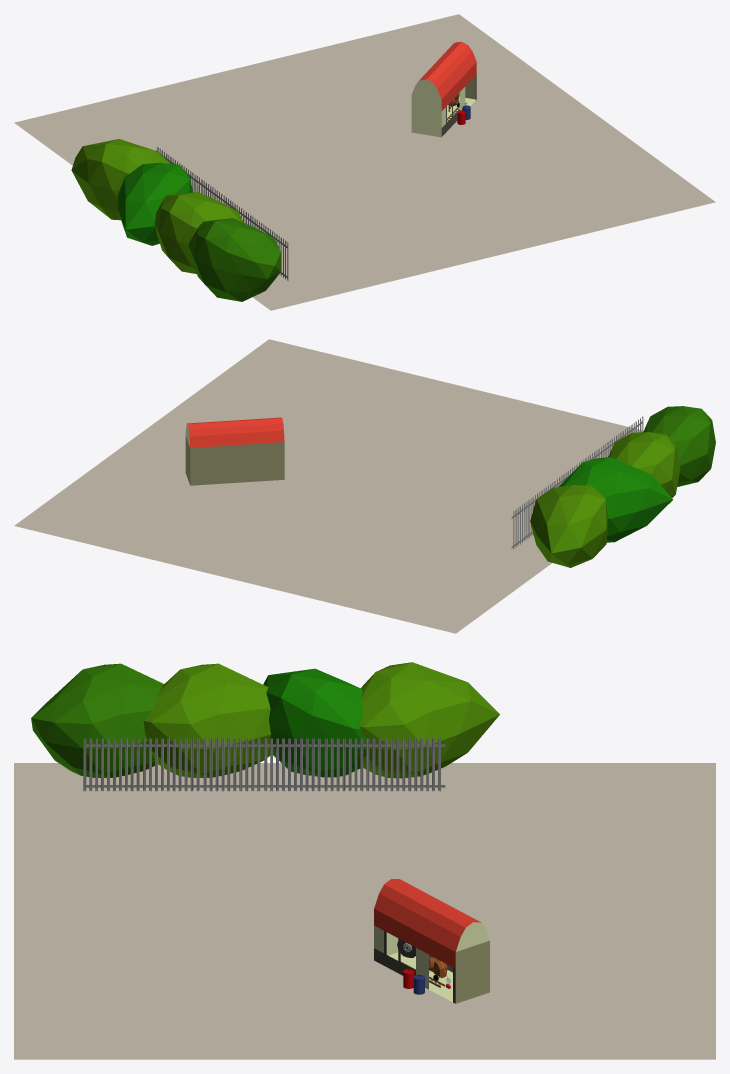
File: M_029.Powerwashing station.fbx
3 renders of one model, top to bottom at view 1: azimuth 30°, elevation 25°; view 2: azimuth 150°, elevation 25°; view 3: azimuth 270°, elevation 25°, orthographic. The views are drawn at different scales.
Visible parts, largest first — view 1: Plane, Icosphere, Barn, Icosphere.003, Icosphere.002, Icosphere.001, Steel Fence; view 2: Plane, Barn, Icosphere.003, Icosphere.002, Icosphere, Icosphere.001, Steel Fence; view 3: Plane, Steel Fence, Icosphere.003, Icosphere.001, Icosphere, Barn, Icosphere.002.
Part boxes in pixels (left/top/right/bottom): Plane: left=14, top=14, right=715, bottom=310; Icosphere: left=188, top=218, right=280, bottom=301; Barn: left=411, top=41, right=476, bottom=137; Icosphere.003: left=71, top=139, right=170, bottom=220; Icosphere.002: left=117, top=162, right=192, bottom=245; Icosphere.001: left=154, top=192, right=243, bottom=273; Steel Fence: left=155, top=147, right=288, bottom=280; Plane: left=14, top=339, right=643, bottom=633; Barn: left=185, top=417, right=284, bottom=485; Icosphere.003: left=530, top=485, right=607, bottom=567; Icosphere.002: left=558, top=457, right=673, bottom=542; Icosphere: left=643, top=406, right=715, bottom=486; Icosphere.001: left=608, top=432, right=680, bottom=497; Steel Fence: left=511, top=416, right=643, bottom=549; Plane: left=14, top=763, right=715, bottom=1059; Steel Fence: left=83, top=738, right=445, bottom=791; Icosphere.003: left=359, top=662, right=499, bottom=778; Icosphere.001: left=143, top=663, right=273, bottom=777; Icosphere: left=31, top=663, right=163, bottom=777; Barn: left=374, top=879, right=489, bottom=1003; Icosphere.002: left=263, top=668, right=370, bottom=777.
Bounding box in the file's own units: 3138 × 459 × 2800.
